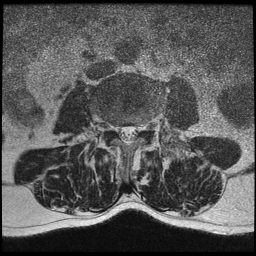CCS_normal: (125, 122, 132, 149)
LFS_normal: (139, 118, 146, 137)
LLS_normal: (132, 121, 139, 144)
RFS_stenosis: (109, 118, 117, 137)
RLS_normal: (118, 121, 125, 144)
